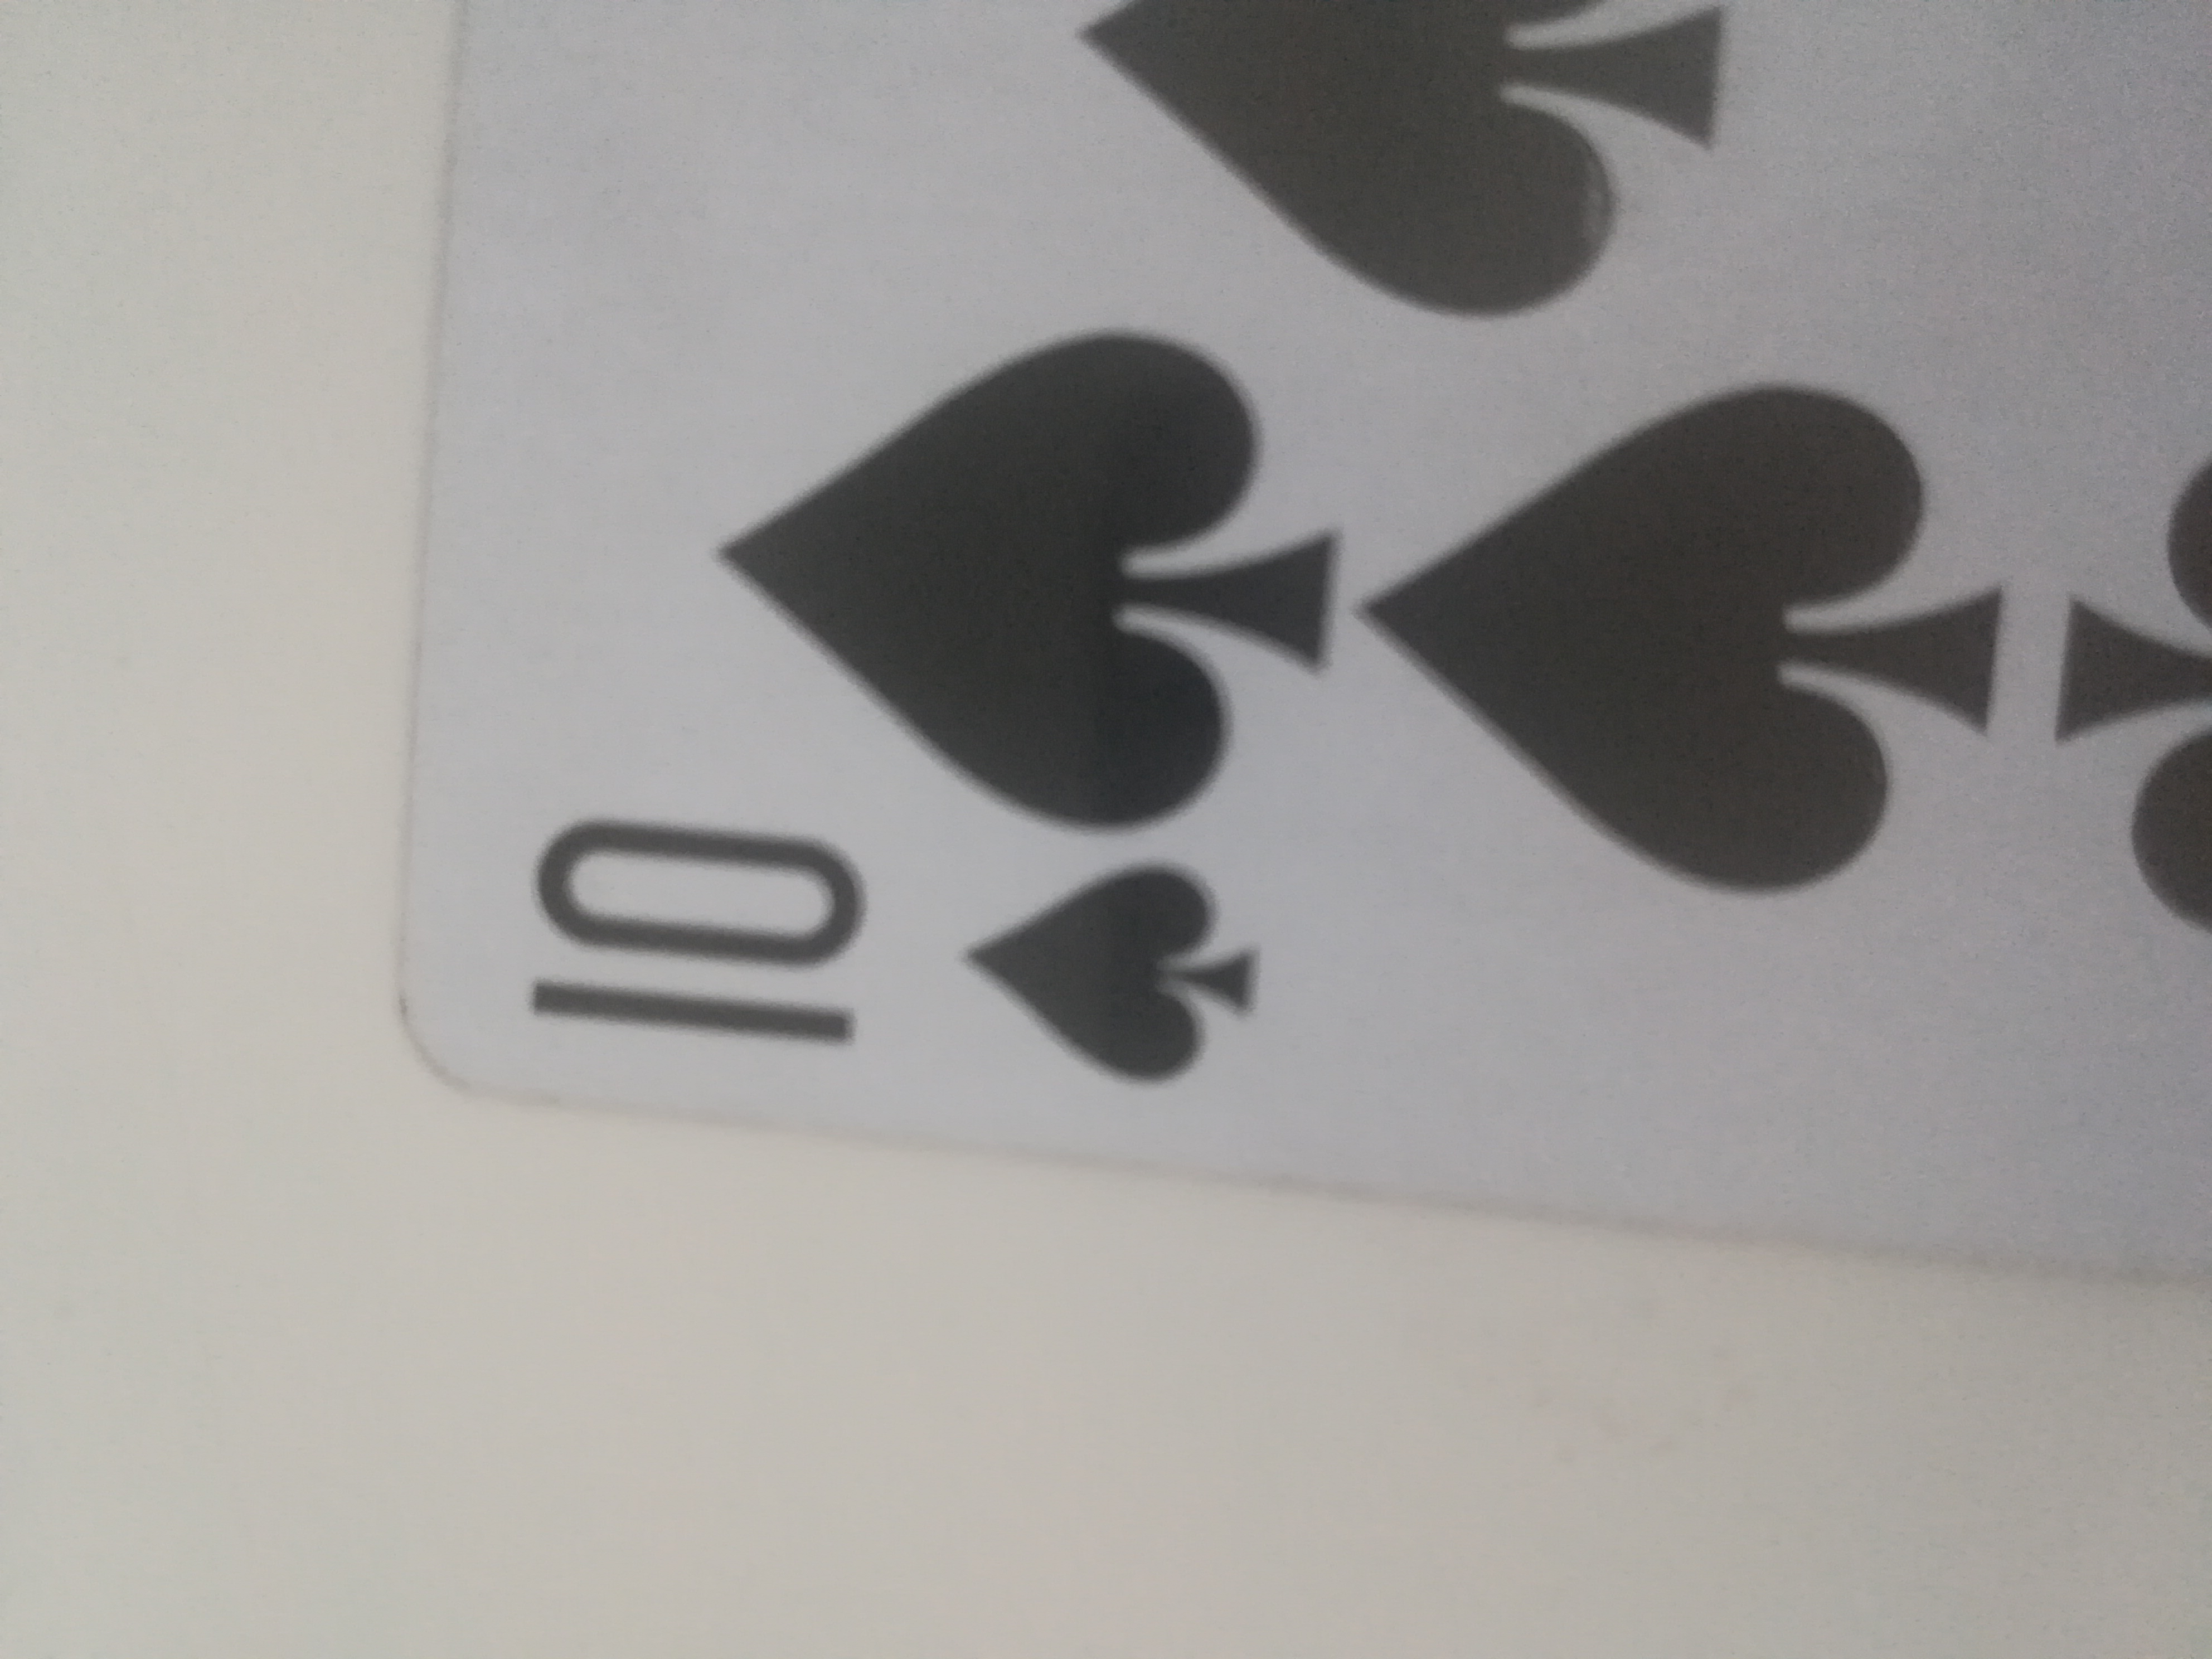10S: (394, 2, 2212, 1298)
